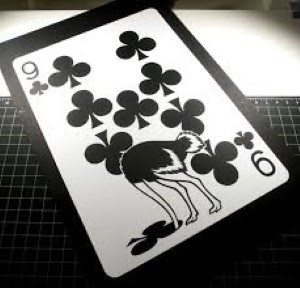NineOfClubs: (9, 8, 292, 278)
